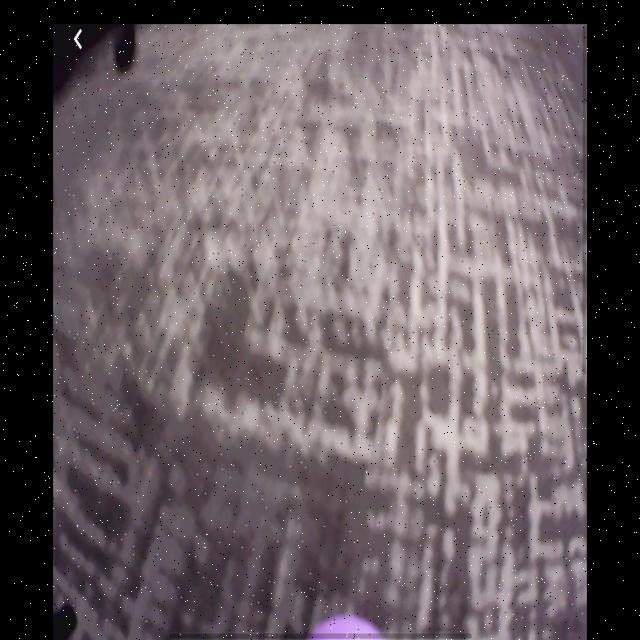ball: (307, 613, 386, 639)
